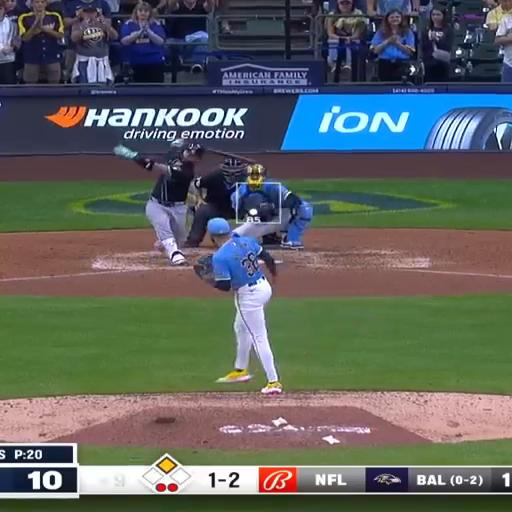bat: (207, 149, 255, 163)
